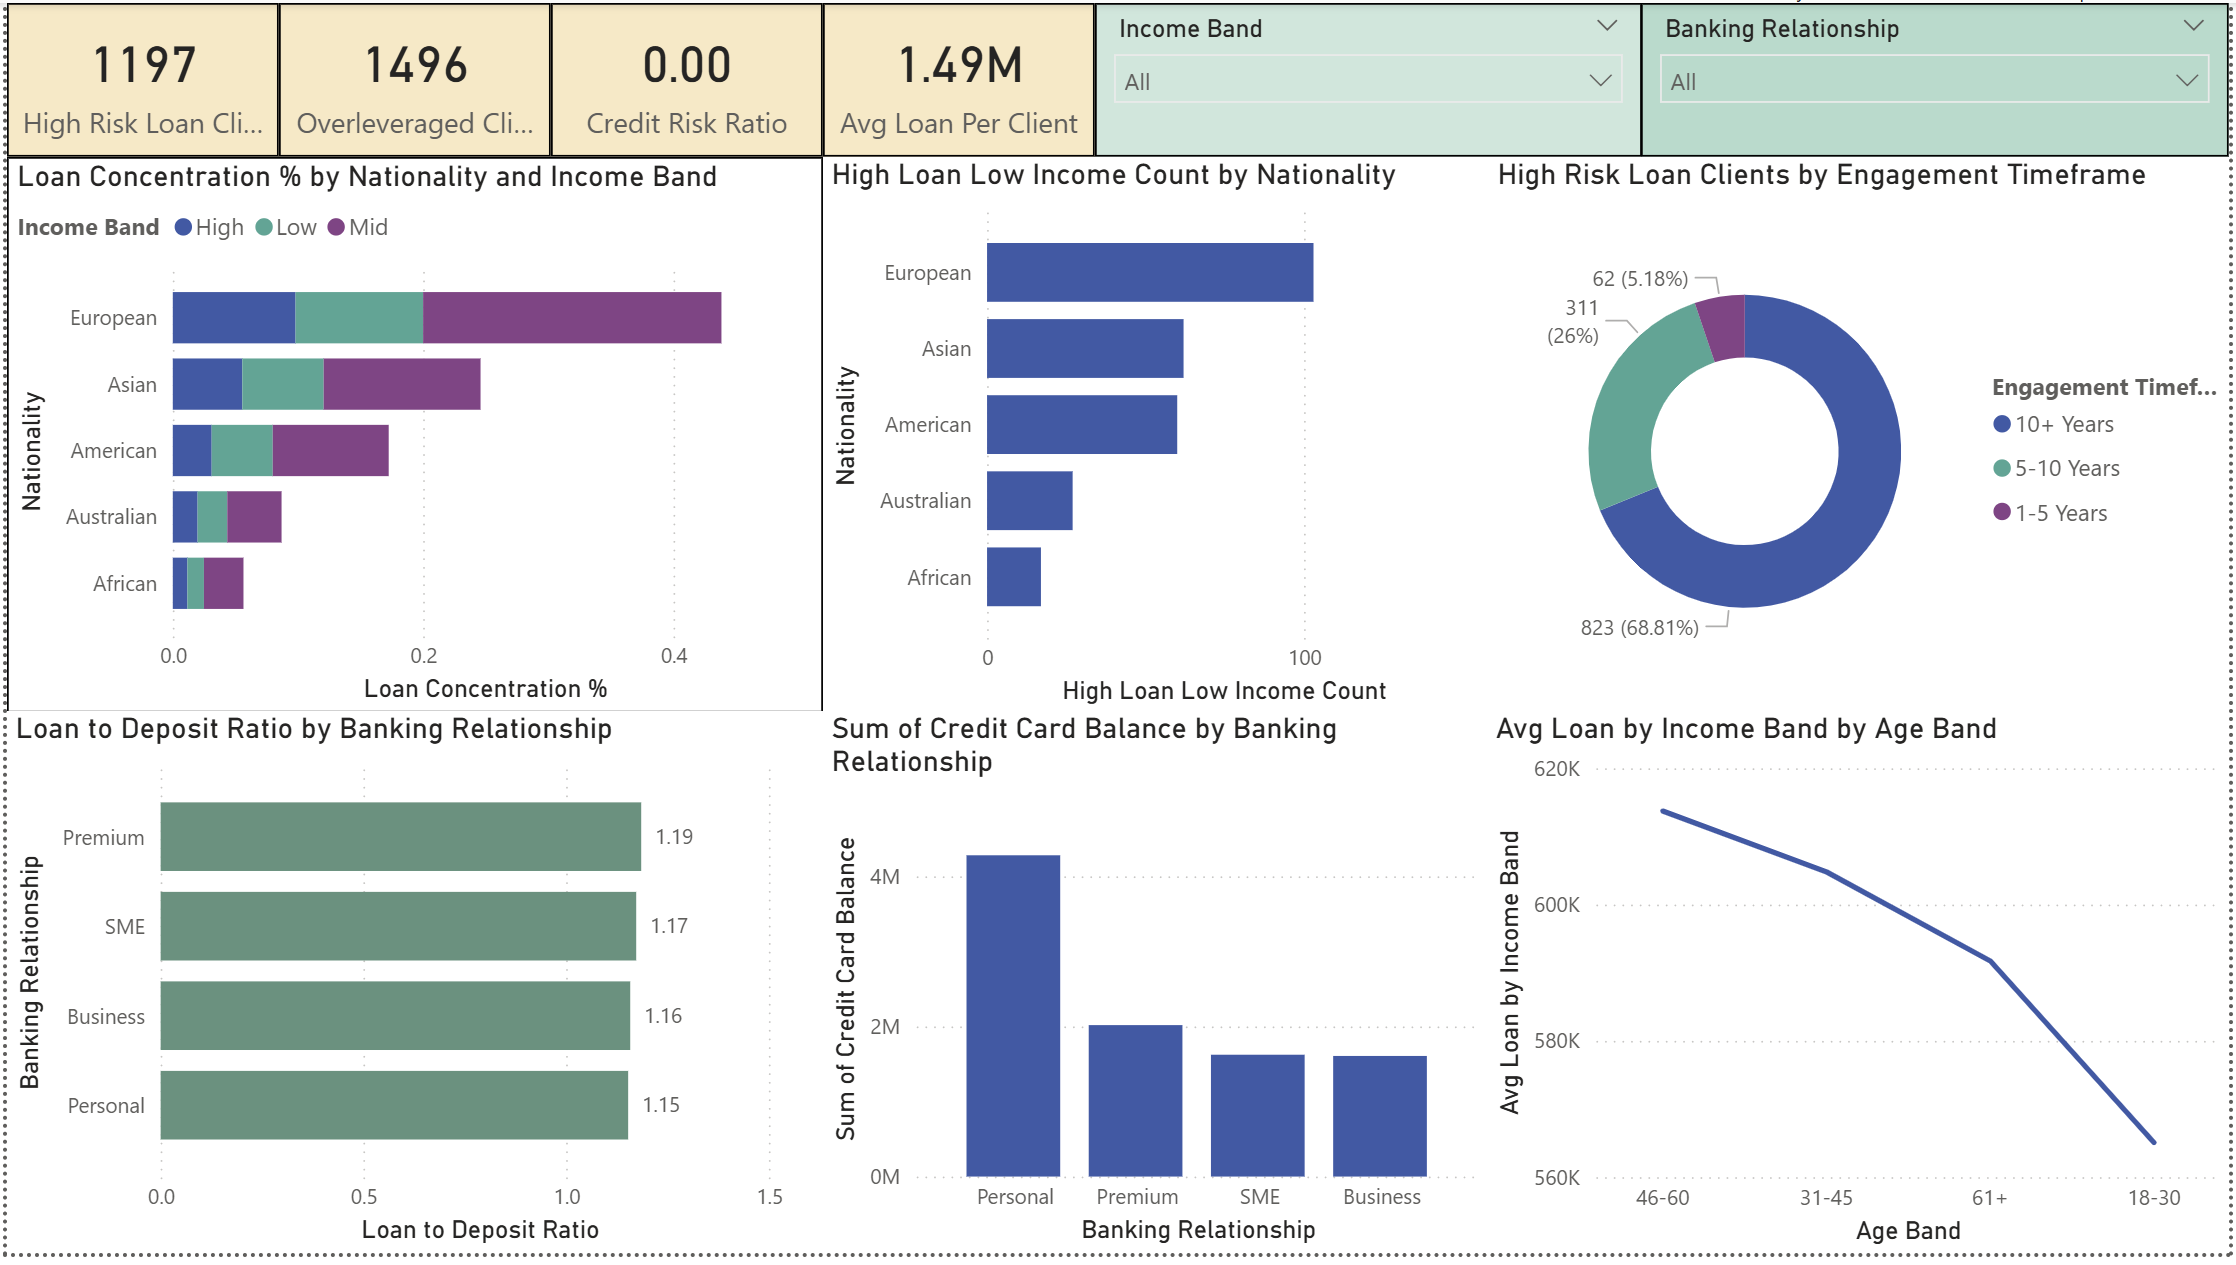

The dashboard page shown, as its layout file describes it:
{"tool":"powerbi","page":{"name":"Risk Analysis","canvas":[1280,720],"ordinal":4},"visuals":[{"type":"card","fields":{"Values":["Banking.High Risk Loan Clients"]},"box":[0,0,156.7,88.3],"z":0},{"type":"card","fields":{"Values":["Banking.Overleveraged Clients"]},"box":[156.7,0,156.7,88.3],"z":1000},{"type":"card","fields":{"Values":["Banking.Credit Risk Ratio"]},"box":[313.3,0,156.7,88.3],"z":2000},{"type":"card","fields":{"Values":["Banking.Avg Loan Per Client"]},"box":[470,0,156.7,88.3],"z":3000},{"type":"barChart","fields":{"Category":["Banking.Nationality"],"Y":["Banking.Loan Concentration %"],"Series":["Banking.Income Band"]},"box":[0,88.3,470,320],"z":4000},{"type":"clusteredBarChart","fields":{"Category":["Banking.Banking Relationship"],"Y":["Banking.Loan to Deposit Ratio"]},"box":[0,408.3,470,311.7],"z":5000},{"type":"clusteredColumnChart","fields":{"Category":["Banking.Banking Relationship"],"Y":["Sum(Banking.Credit Card Balance)"]},"box":[470,408.3,383.3,311.7],"z":6000},{"type":"slicer","fields":{"Values":["Banking.Income Band"]},"box":[626.7,0,315,88.3],"z":7000},{"type":"slicer","fields":{"Values":["Banking.Banking Relationship"]},"box":[941.7,0,338.3,88.3],"z":8000},{"type":"clusteredBarChart","fields":{"Category":["Banking.Nationality"],"Y":["Banking.High Loan Low Income Count"]},"box":[470,88.3,383.3,320],"z":9000},{"type":"donutChart","fields":{"Category":["Banking.Engagement Timeframe"],"Y":["Banking.High Risk Loan Clients"]},"box":[853.3,88.3,426.7,320],"z":10000},{"type":"lineChart","fields":{"Category":["Banking.Age Band"],"Y":["Banking.Avg Loan by Income Band"]},"box":[853,408,427,312],"z":11000}]}

Visuals, with their boxes in screenshot pixels (x1, y1, x2, y2), scaled from the page's 1280x720 canvas onto the 2236x1265 screenshot:
card - Banking.High Risk Loan Clients: [0,0,274,155]
card - Banking.Overleveraged Clients: [274,0,547,155]
card - Banking.Credit Risk Ratio: [547,0,821,155]
card - Banking.Avg Loan Per Client: [821,0,1095,155]
barChart - Banking.Nationality x Banking.Loan Concentration %: [0,155,821,717]
clusteredBarChart - Banking.Banking Relationship x Banking.Loan to Deposit Ratio: [0,717,821,1264]
clusteredColumnChart - Banking.Banking Relationship x Sum(Banking.Credit Card Balance): [821,717,1491,1264]
slicer - Banking.Income Band: [1095,0,1645,155]
slicer - Banking.Banking Relationship: [1645,0,2235,155]
clusteredBarChart - Banking.Nationality x Banking.High Loan Low Income Count: [821,155,1491,717]
donutChart - Banking.Engagement Timeframe x Banking.High Risk Loan Clients: [1491,155,2235,717]
lineChart - Banking.Age Band x Banking.Avg Loan by Income Band: [1490,717,2235,1264]
